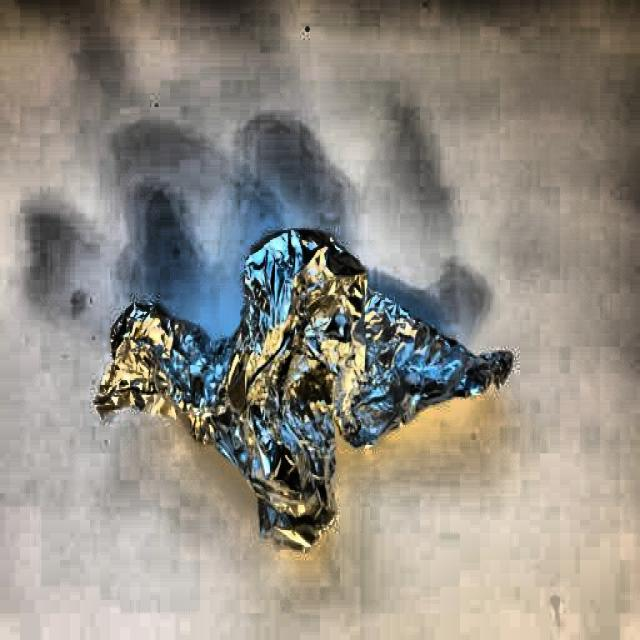metal: (95, 227, 510, 559)
